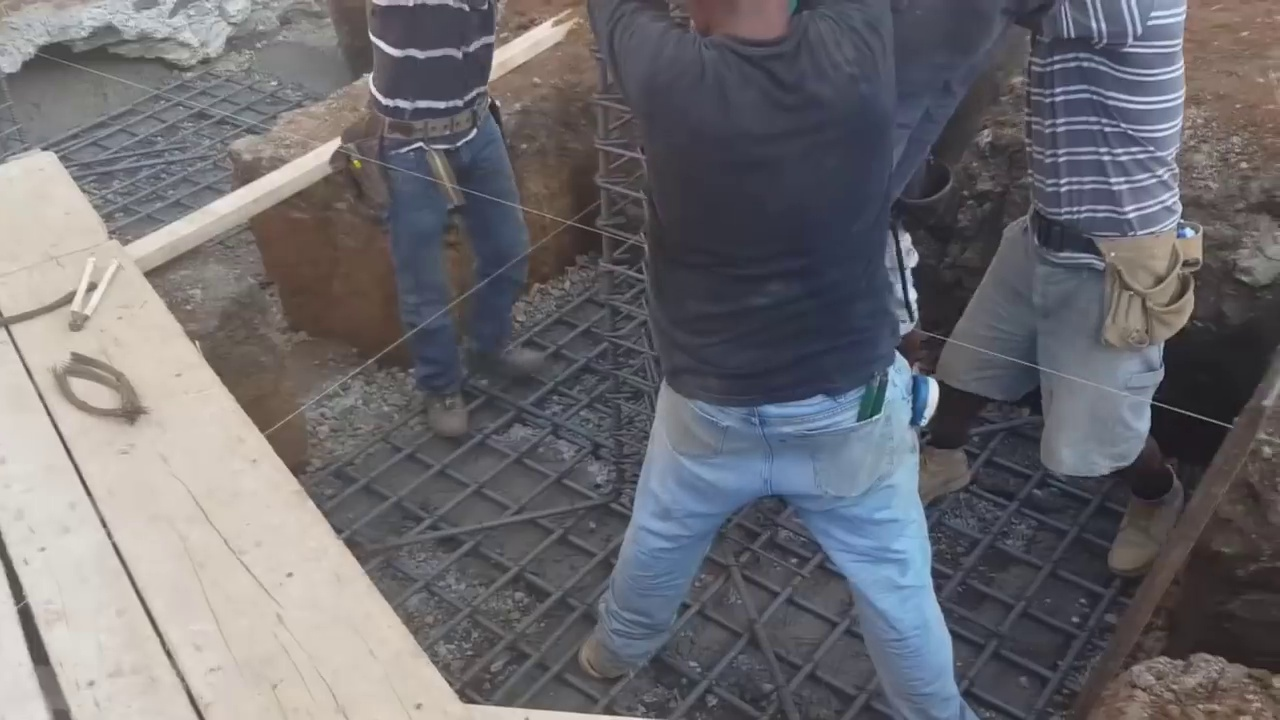person: (597, 0, 1028, 720), (925, 0, 1201, 579), (344, 0, 530, 417)
